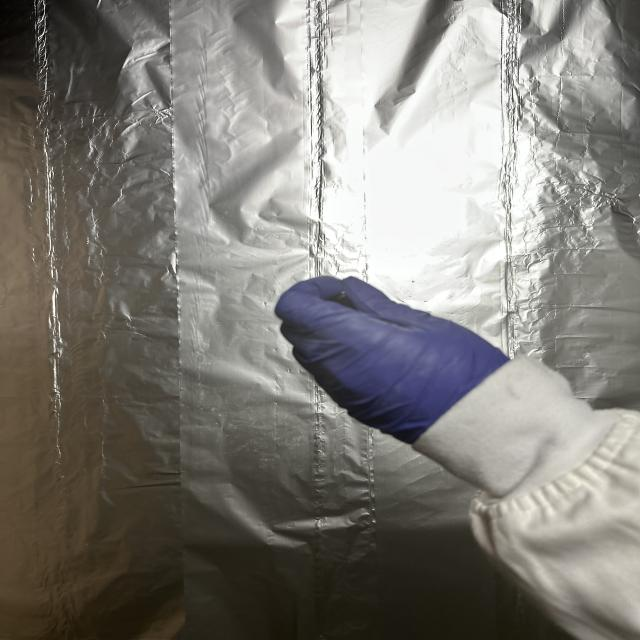gloves_contaminated: (276, 276, 508, 444)
